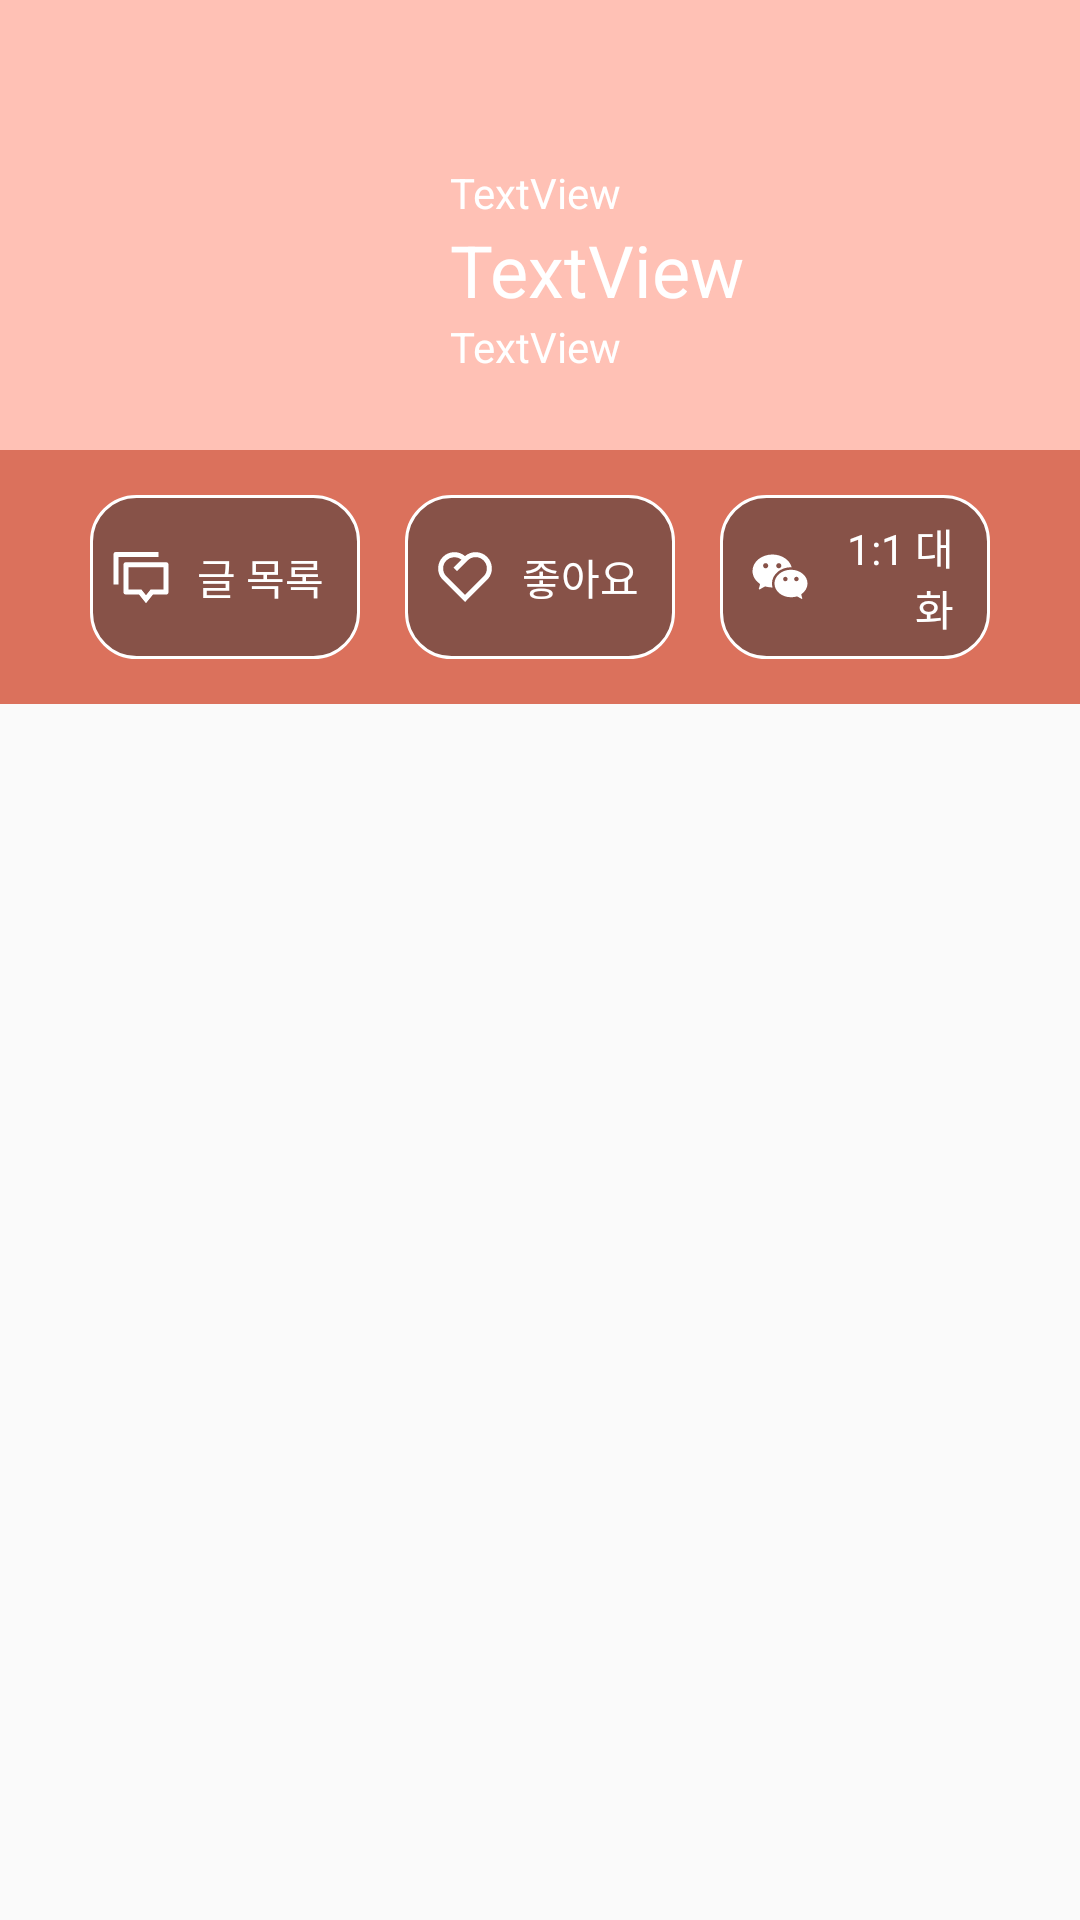

Screen size 1080×1920. Icon name, then its box in pixels as box(x1, y1, x2, y2):
discuss line: box(113, 552, 169, 603)
heart line: box(438, 552, 492, 602)
